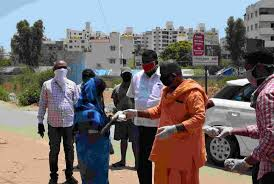mask: (241, 58, 262, 89), (159, 66, 182, 86), (89, 75, 105, 103), (52, 61, 68, 86), (140, 52, 157, 75), (121, 73, 130, 87)
